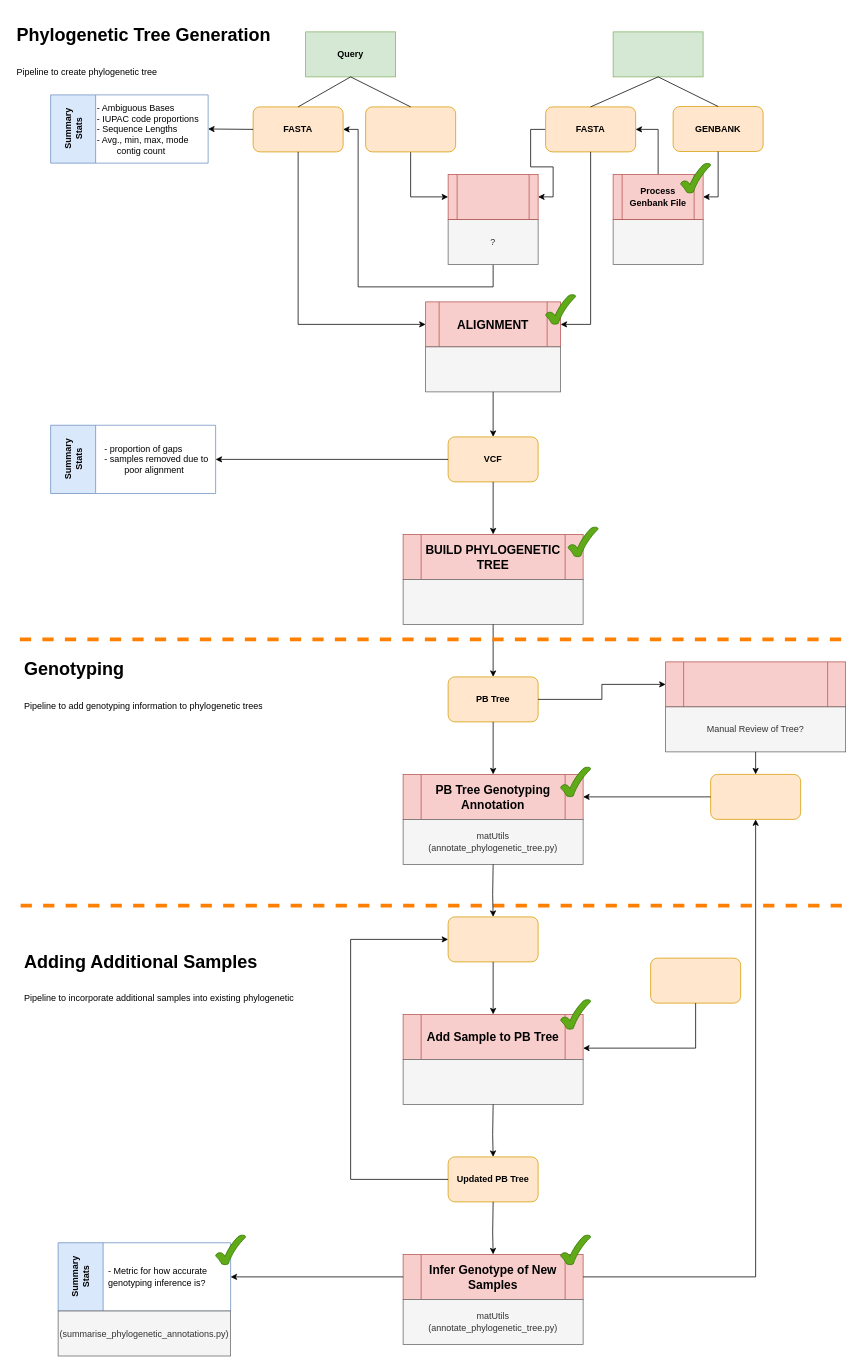
The diagram is 861 pixels wide and 1369 high, and some of its shapes have lost their labels. Here are the shapes that lost their labels. From the top down, the centre of each, then its label:
the point at 657,54: Reference
the point at 410,129: FASTQ
the point at 492,196: MAPPING
the point at 657,241: gbmunge (parse_genbank.py)
the point at 493,369: minimap2 fatovcf (multi_sequence_alignment.py)
the point at 492,601: Usher (build_phylogenetic_tree.py)
the point at 755,684: Genotyping
the point at 755,796: GENOTYPING METADATA
the point at 492,939: Annotate PB Tree
the point at 695,980: ADDITIONAL FASTA SEQUENCE
the point at 492,1081: matUtils (adding_sample_to_usher_tree.py)
